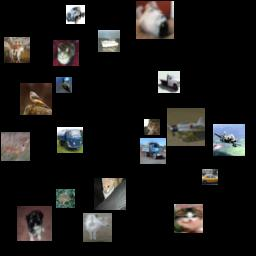airplane: (167, 108, 205, 146), (213, 124, 245, 156), (56, 77, 72, 93)
automobile: (202, 169, 218, 185)
bird: (20, 83, 52, 115)
cat: (136, 1, 174, 39), (94, 178, 126, 210), (174, 204, 203, 233), (53, 40, 79, 66), (144, 119, 160, 135)
deer: (1, 132, 30, 161), (83, 213, 112, 242)
dog: (17, 206, 52, 241)
frog: (56, 189, 75, 208)
ship: (98, 30, 120, 52)
truck: (140, 138, 166, 164), (57, 127, 83, 153), (158, 71, 180, 93), (66, 5, 85, 24)
